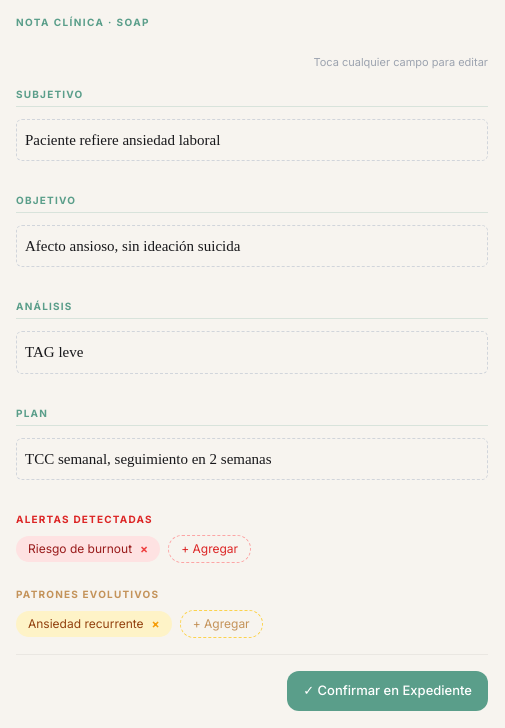
SoapNoteDocument › muestra "Guardado en expediente" después de confirmar exitosamente
Click the button "✓ Confirmar en Expediente": (388, 691) [287,671,488,710]
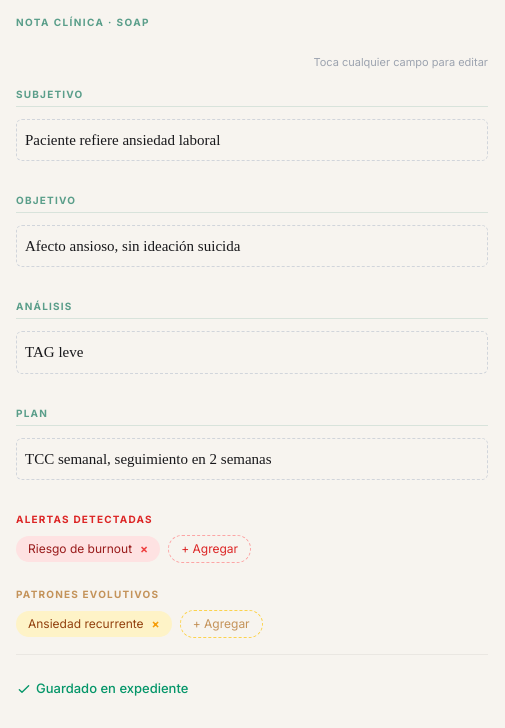
Expected: the text "Guardado en expediente" is shown, [16,680,188,697]
